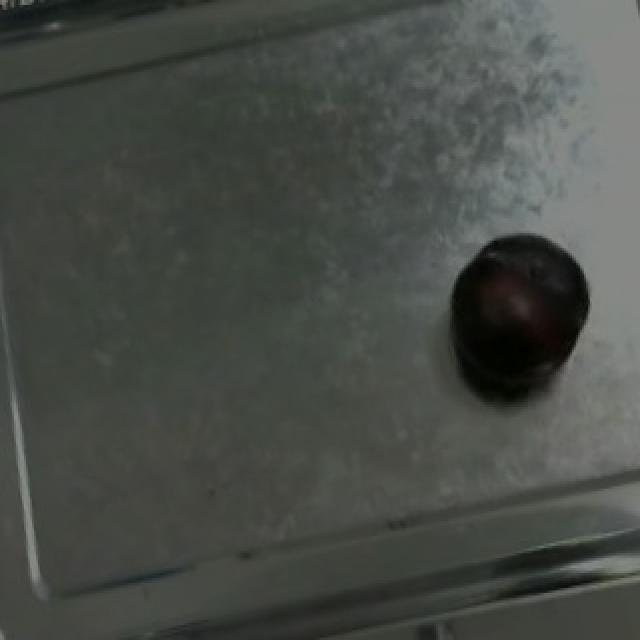Fruit: (440, 221, 606, 394)
